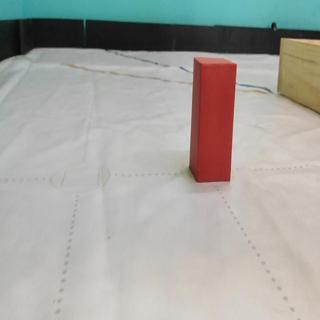redbox: (188, 56, 237, 184)
